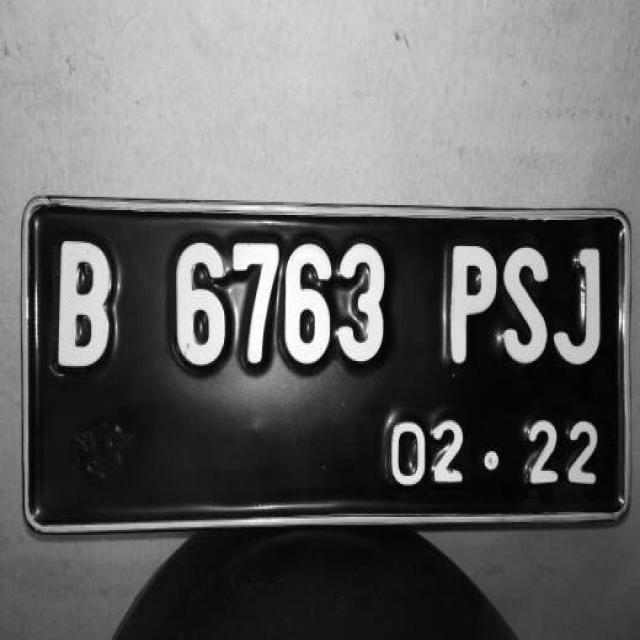3: (330, 230, 384, 370)
6: (163, 228, 233, 392), (278, 232, 330, 390)
7: (225, 238, 282, 370)
B: (36, 220, 124, 380)
J: (556, 250, 608, 376)
P: (436, 240, 498, 370)
S: (498, 248, 556, 371)
